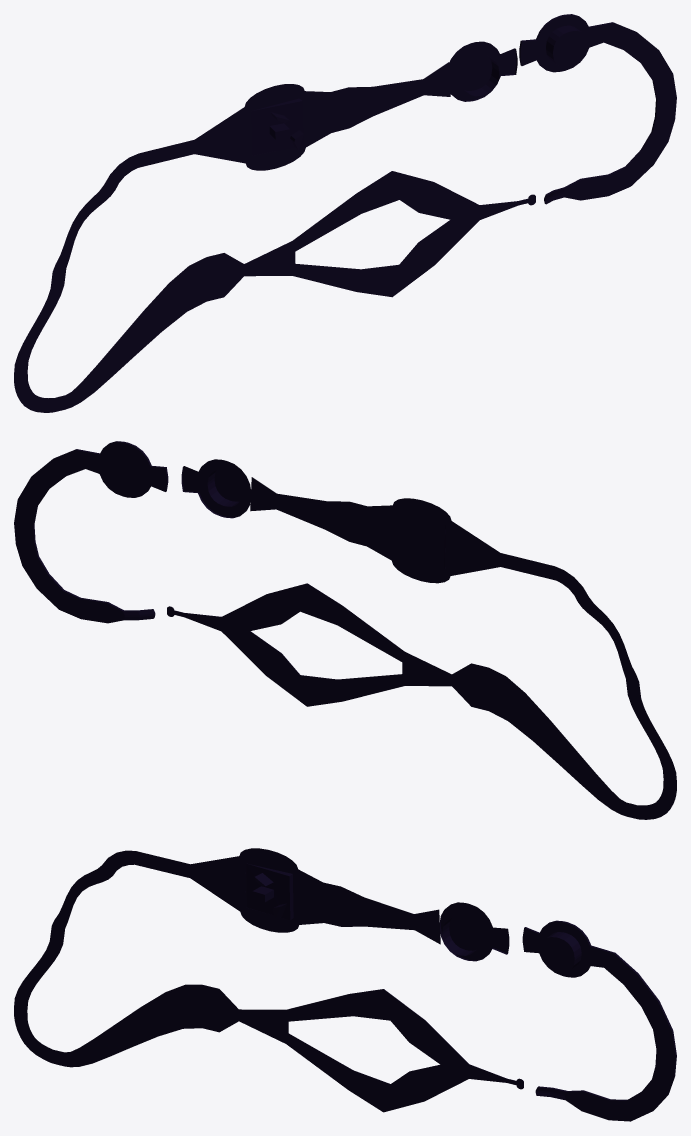
The model's file is CoolMagicLand97.fbx.
3 views of the same model, one above another, from view 1: azimuth 30°, elevation 25°; view 2: azimuth 150°, elevation 25°; view 3: azimuth 330°, elevation 25° (orthographic). The views are drawn at different scales.
Visible parts, largest first — view 1: Pista, Plane.001, Plane; view 2: Pista, Plane.001, Plane; view 3: Pista, Plane.001, Plane.
Part boxes in pixels (x1=…): Pista: x1=14, y1=62, x2=535, y2=412; Plane.001: x1=519, y1=14, x2=676, y2=204; Plane: x1=449, y1=41, x2=517, y2=101; Pista: x1=167, y1=477, x2=676, y2=819; Plane.001: x1=14, y1=441, x2=168, y2=623; Plane: x1=181, y1=459, x2=251, y2=518; Pista: x1=14, y1=848, x2=523, y2=1112; Plane.001: x1=522, y1=920, x2=676, y2=1121; Plane: x1=440, y1=902, x2=509, y2=961.
Size of the model in its own units: 230269 by 89518 by 10712.
